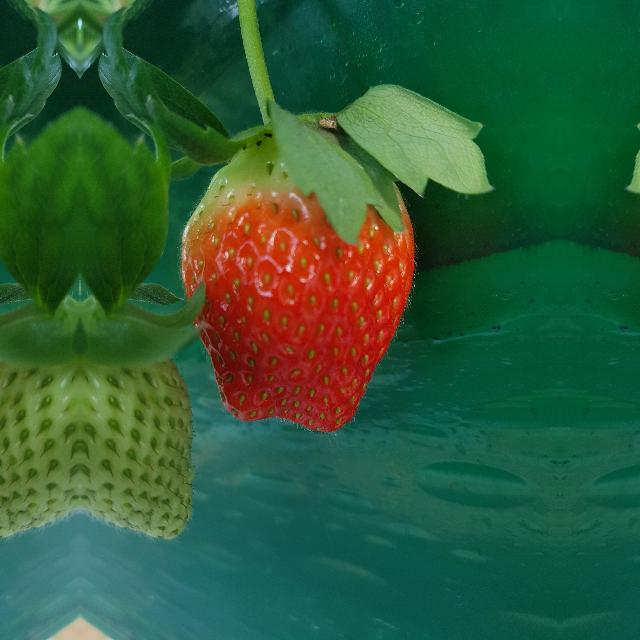Health_75: (179, 137, 417, 435)
